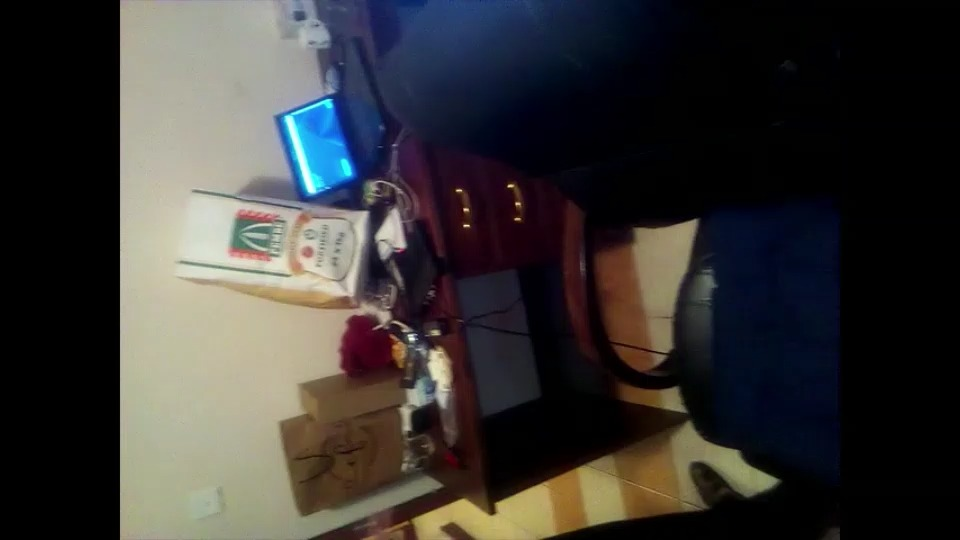maize_flour_green_label: (175, 192, 368, 303)
